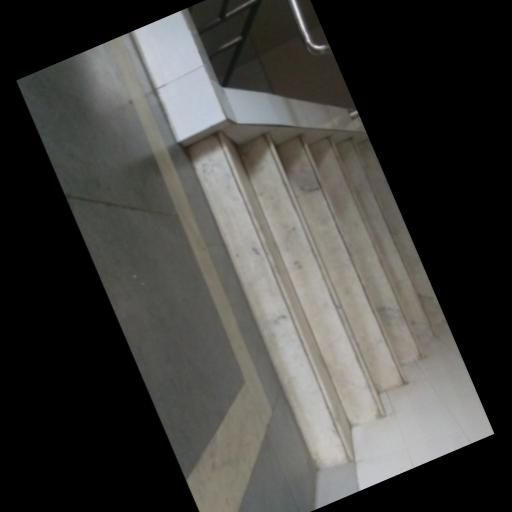stairs: (187, 133, 443, 466)
